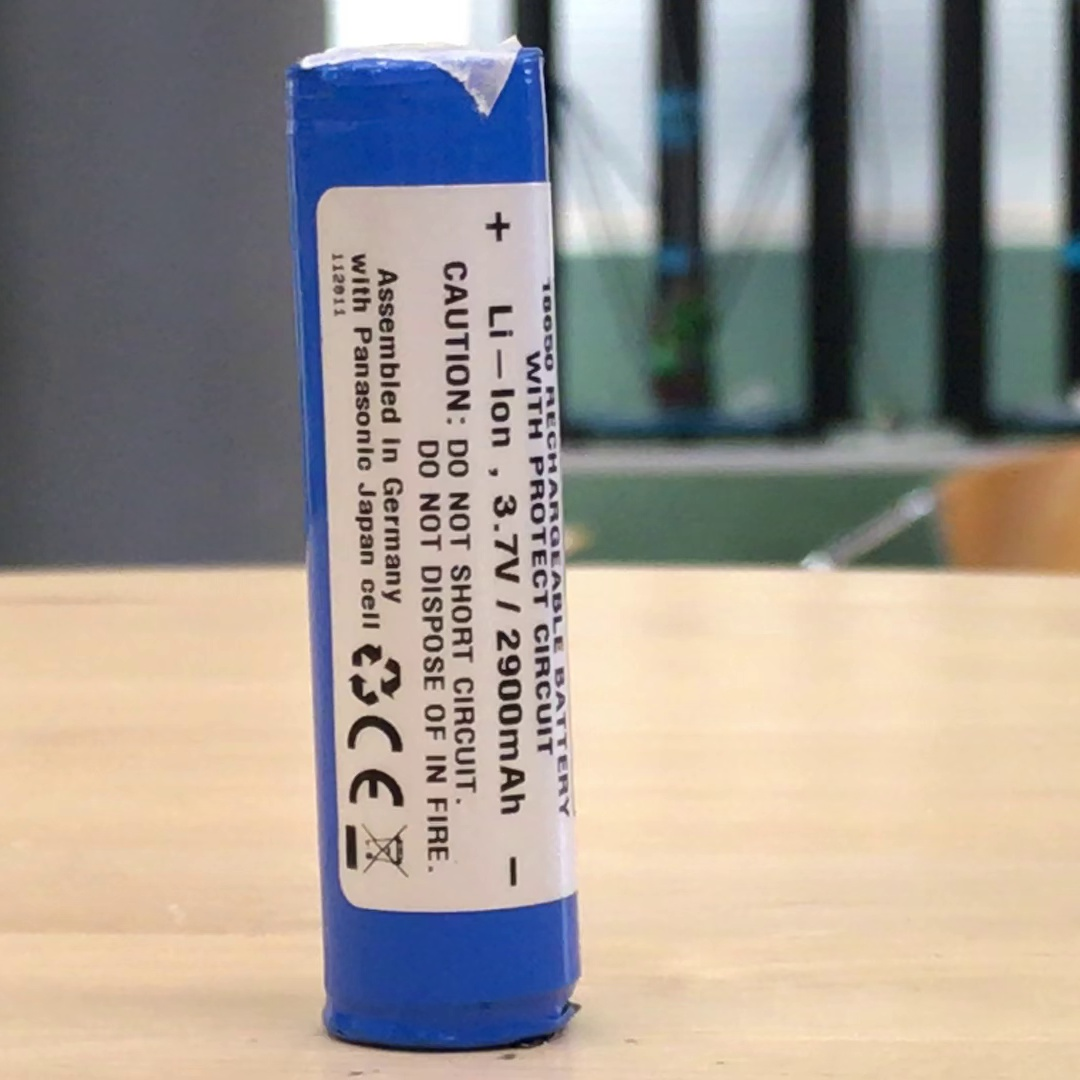keyword: (483, 485, 530, 593)
